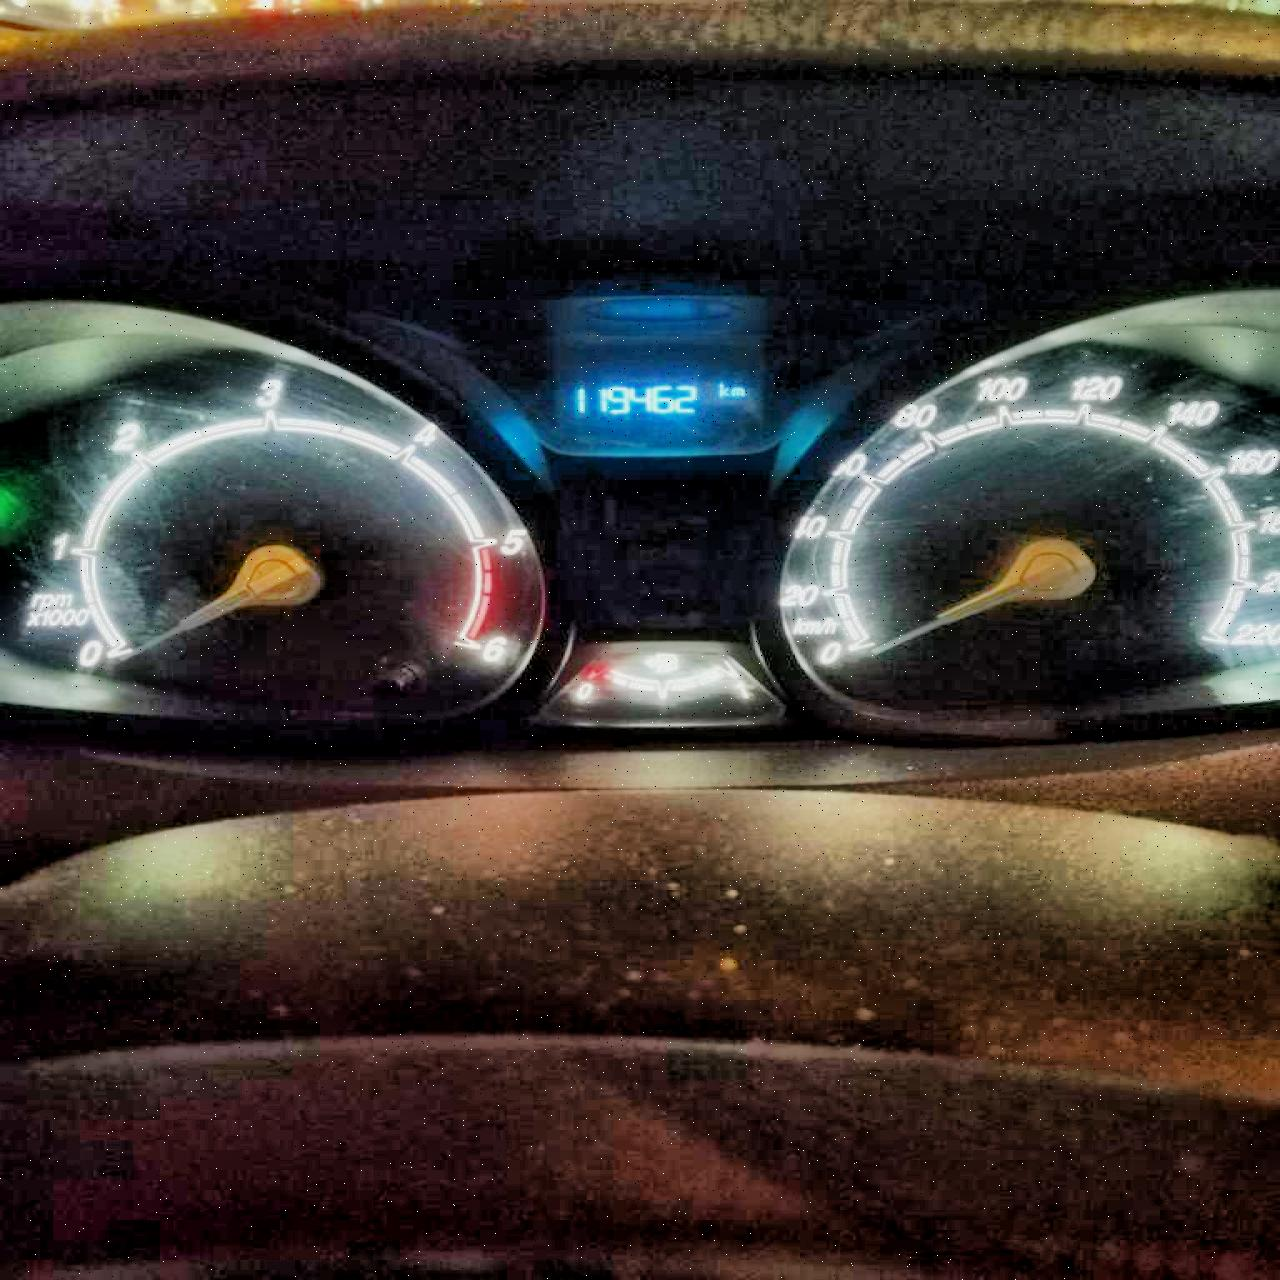1: (572, 384, 588, 414), (593, 386, 607, 413)
2: (673, 383, 696, 413)
4: (628, 387, 649, 413)
6: (652, 384, 673, 414)
9: (605, 384, 628, 414)
X: (715, 380, 727, 397), (728, 384, 744, 396)
odometer: (533, 365, 775, 441)
